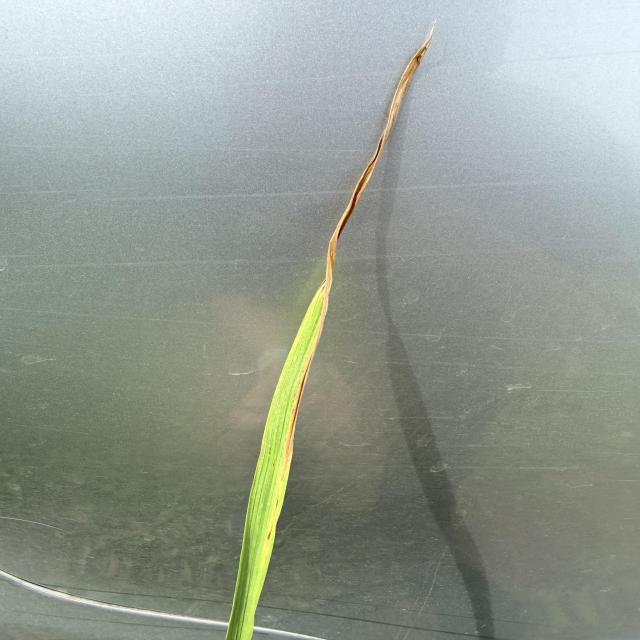Chay bia la: (284, 19, 438, 469)
